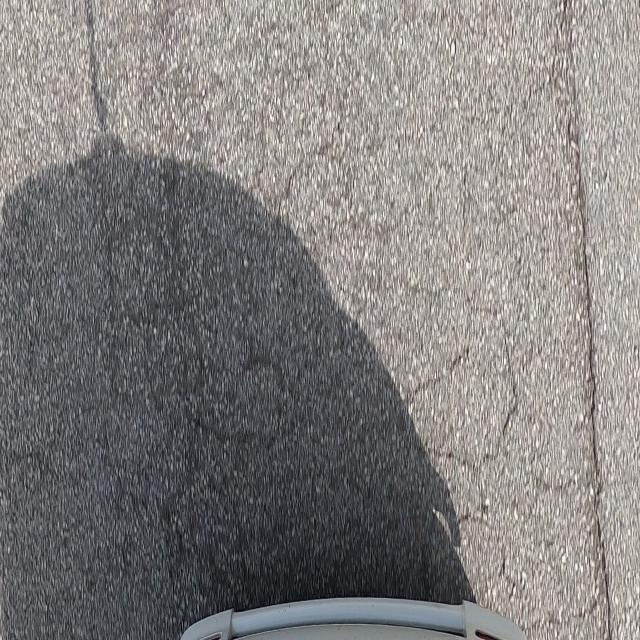Retak-Memanjang: (567, 0, 613, 637)
